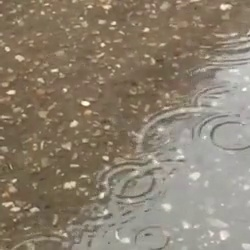drop: (136, 108, 227, 168), (170, 1, 250, 68), (100, 160, 162, 204), (193, 113, 250, 153), (191, 85, 250, 113), (11, 235, 76, 249), (134, 226, 169, 250)
